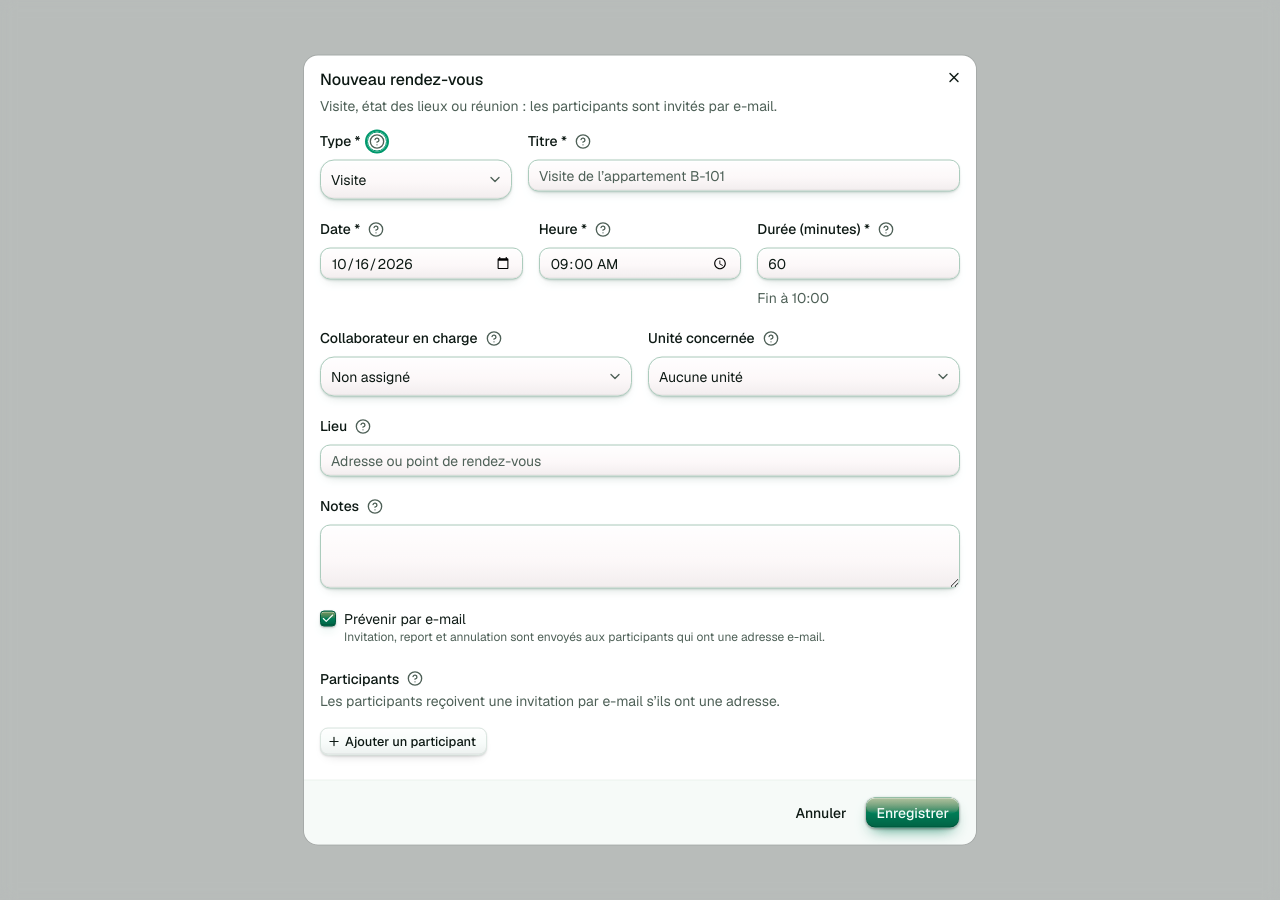
it: AppointmentDialog › asks for a title and does not save without one
The image size is (1280, 900).
Click the button "Enregistrer".
click(913, 812)  # box 866,796 -> 960,828
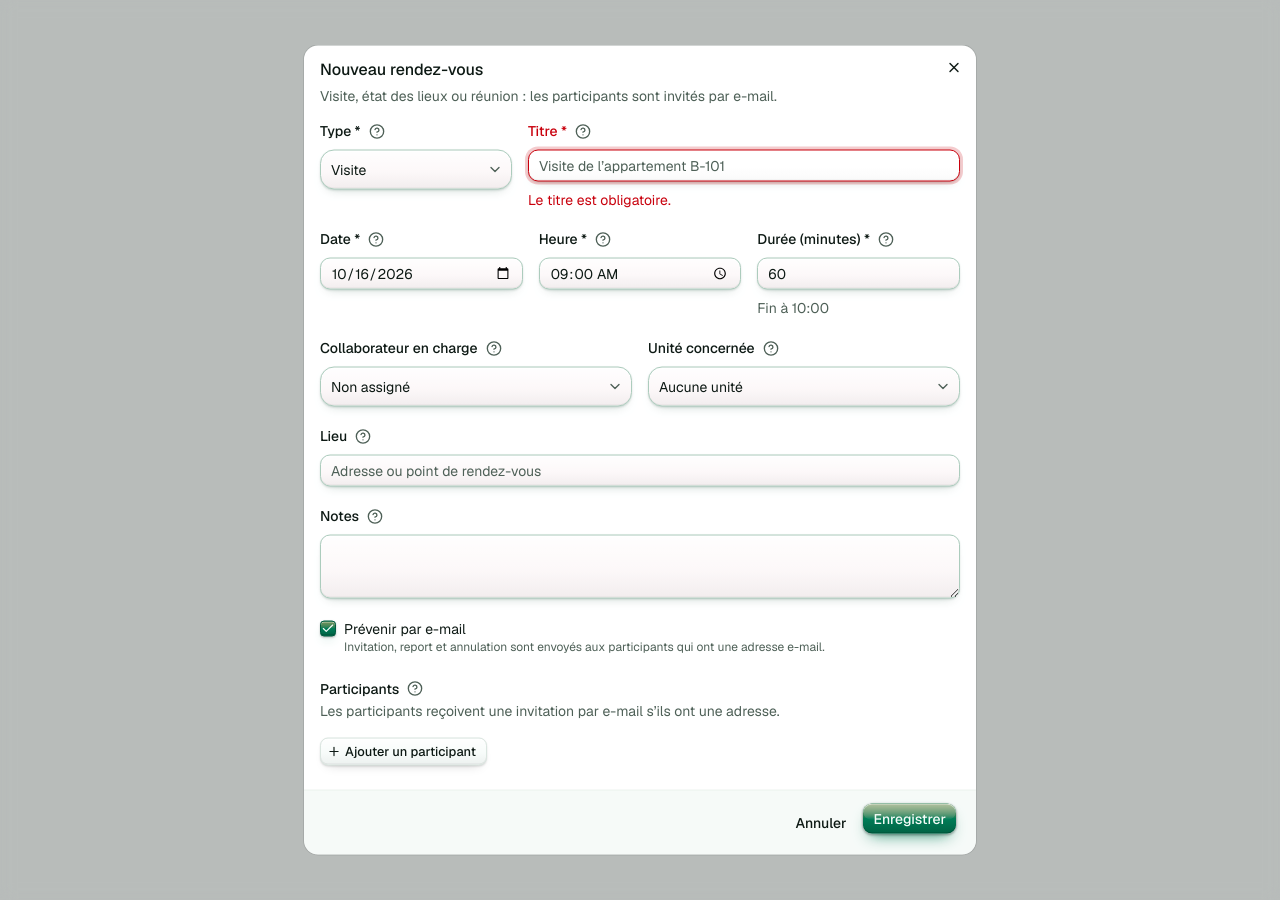
Result: the text "Le titre est obligatoire." is shown at 528,190 -> 671,208
